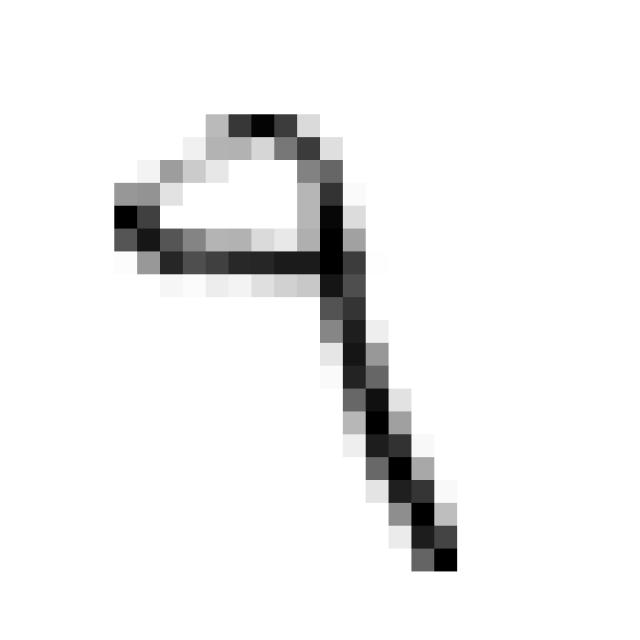9 -nine-: (85, 91, 478, 594)
